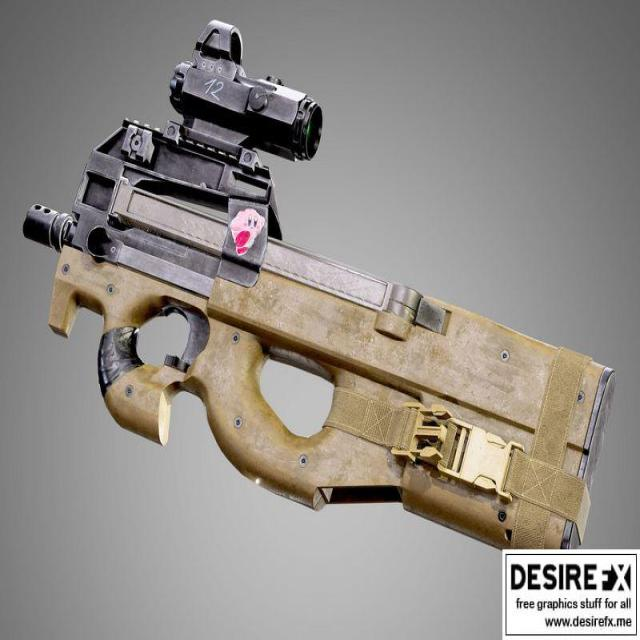Gun: (5, 14, 619, 576)
